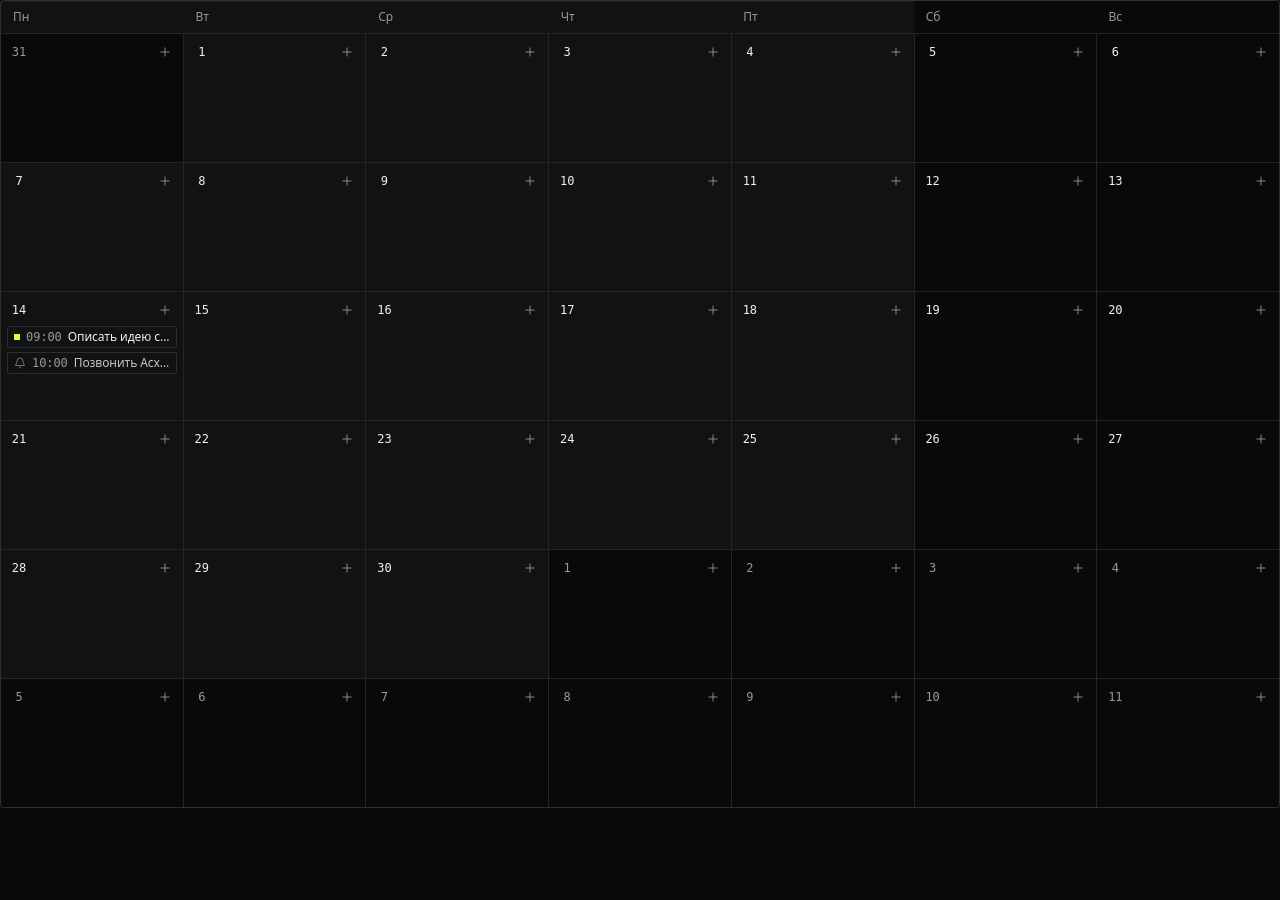
Test: MonthView: клик по дню › клик по пустому месту клетки открывает окно дня: там названия целиком
Click the element that starts with "Описать идею сайта кофейни подробно" at (92, 356), box [1,292,183,420]
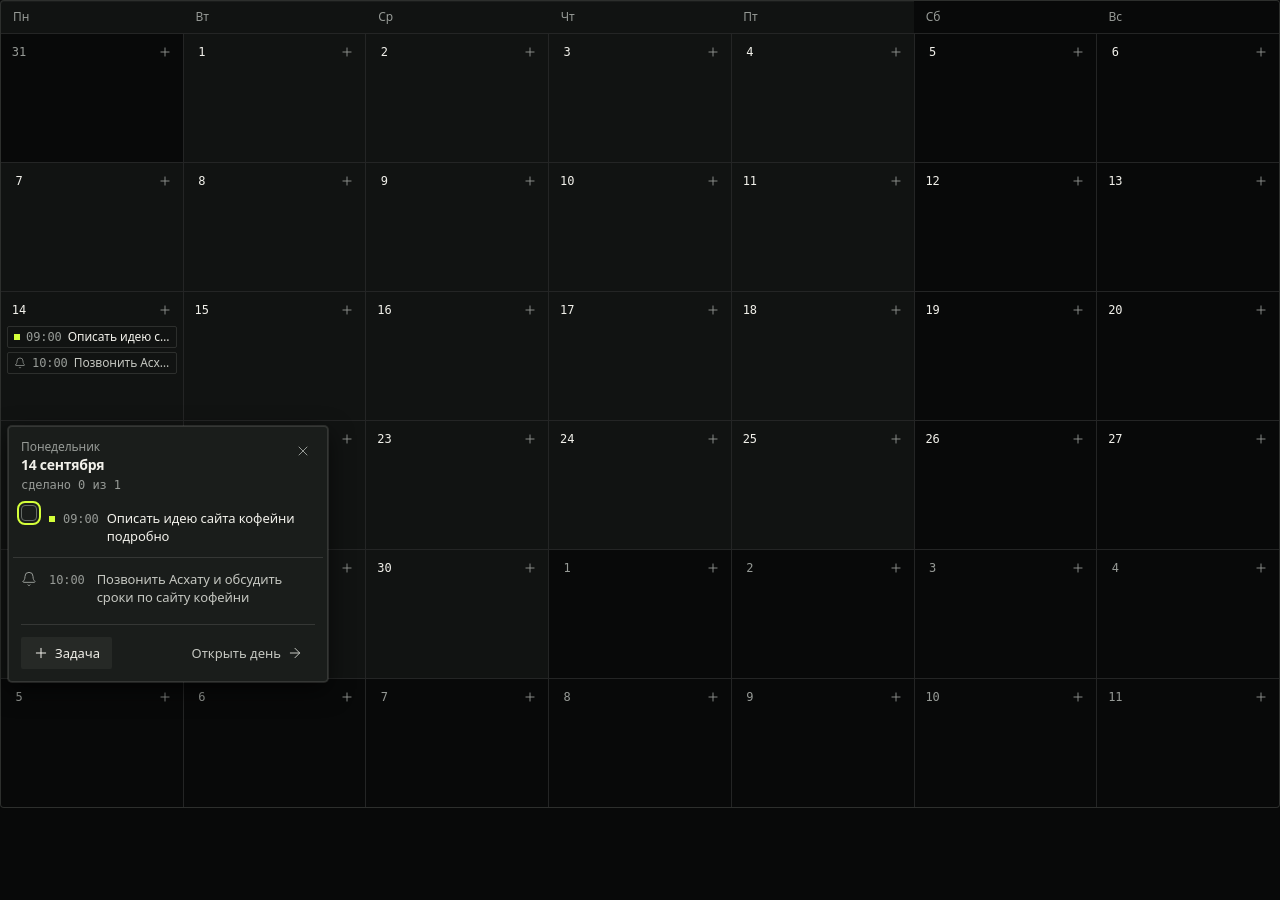
Check: the heading "14 сентября" is shown, box [21,455,104,474]
Check: the text "Описать идею сайта кофейни подробно" below "сделано 0 из 1" is shown, box [107,509,294,545]
Check: the text "Позвонить Асхату и обсудить сроки по сайту кофейни" below "сделано 0 из 1" is shown, box [97,570,282,606]
